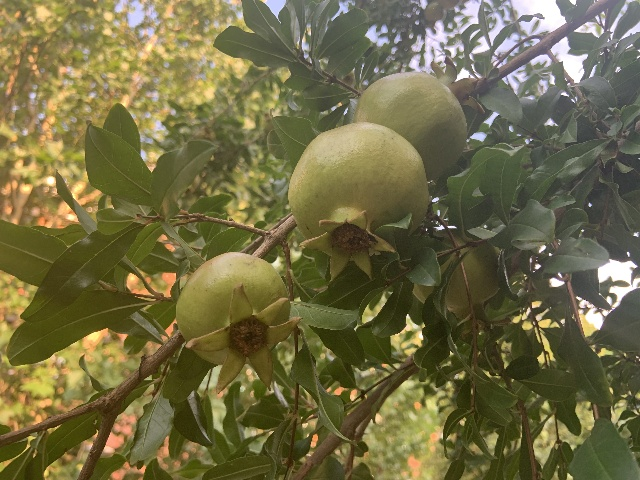mid-growth: (287, 122, 429, 284), (175, 251, 303, 395), (352, 55, 484, 179), (412, 228, 499, 339)
